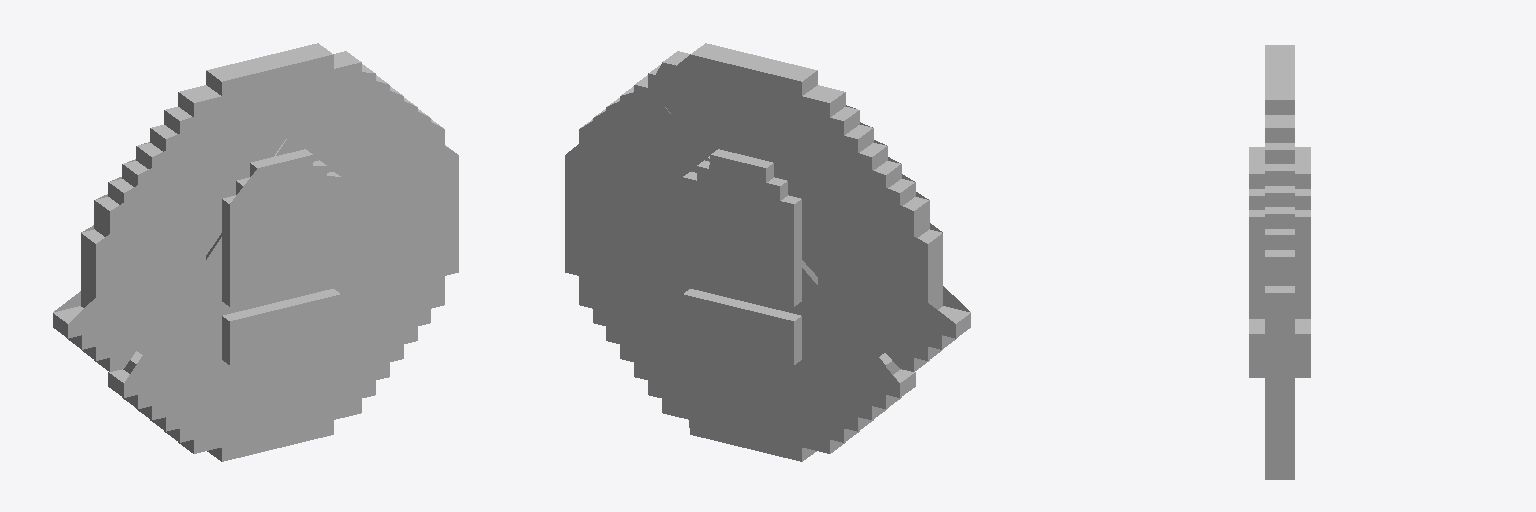
The model's file is Dexterity.obj.
3 views of the same model, side by side, from view 1: azimuth 30°, elevation 25°; view 2: azimuth 150°, elevation 25°; view 3: azimuth 270°, elevation 25° (orthographic).
Visible parts, largest first — view 1: Dexterity_Plane.064; view 2: Dexterity_Plane.064; view 3: Dexterity_Plane.064.
Boxes of the visible parts, x1,y1,x2,y2 form: Dexterity_Plane.064: [53, 43, 458, 461]; Dexterity_Plane.064: [565, 43, 970, 461]; Dexterity_Plane.064: [1249, 45, 1310, 479].
Size of the model in its own units: 1.46 by 1.35 by 0.2.